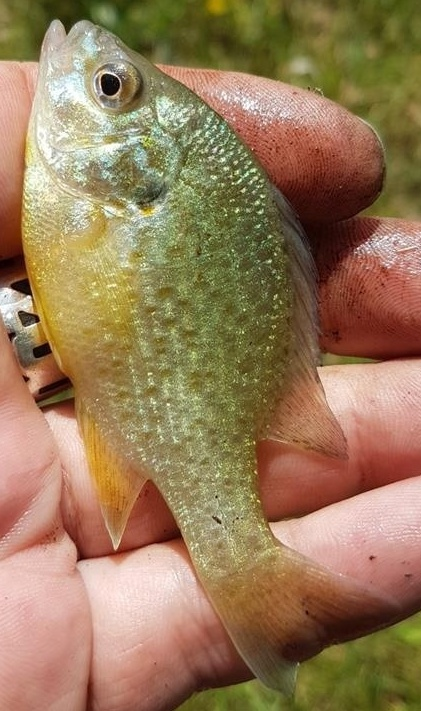Lepomis gibbosus: (20, 20, 401, 691)
